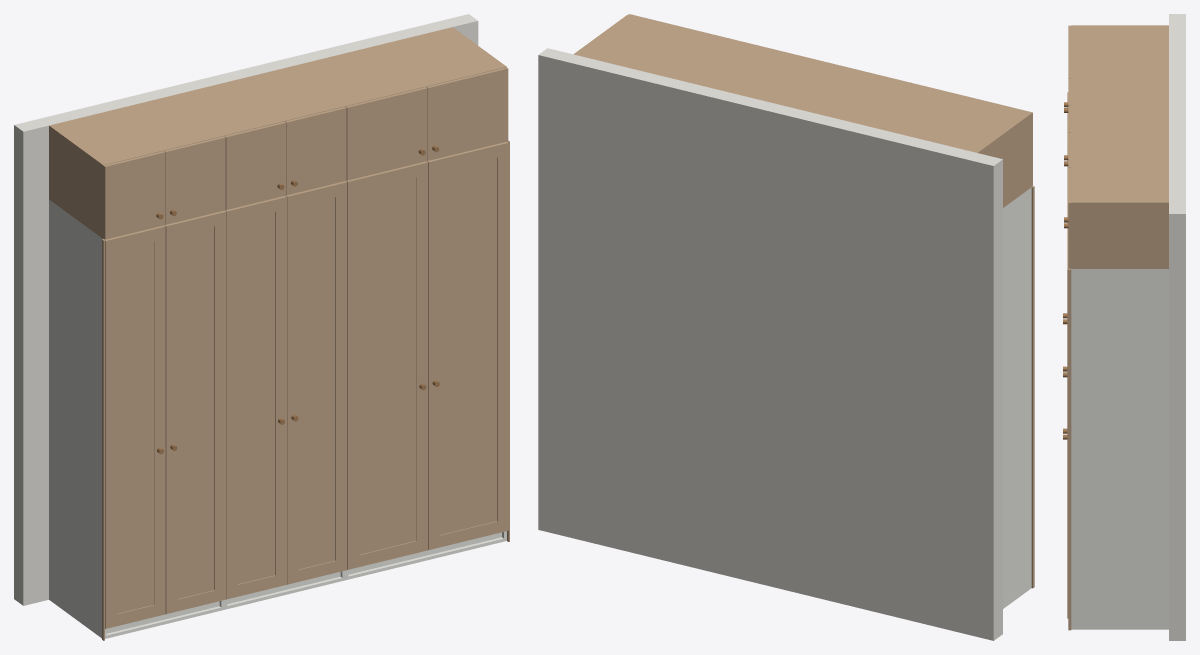
File: b-17khwf.glb
The picture shows the model from 3 angles, left to right: view 1: azimuth 30°, elevation 25°; view 2: azimuth 150°, elevation 25°; view 3: azimuth 270°, elevation 25°; orthographic projection. The views are drawn at different scales.
Parts seen in each view (by area): view 1: Room: Back wall, Unit 1: Side, left, Unit 3: Door, left, Unit 3: Door, right, Unit 1: Door, left, Unit 2: Door, right, Unit 1: Door, right, Unit 2: Door, left, Unit 3: Door, left frame, Unit 1: Door, right frame, Unit 3: Door, right frame, Unit 2: Door, right frame (+15 smaller); view 2: Room: Back wall, Unit 1: Side, left, Unit 3: Top box: Top, Unit 1: Top box: Top, Unit 2: Top box: Top, Unit 1: Top box: Side, left, Filler, left; view 3: Unit 3: Side, right, Room: Back wall, Unit 3: Top box: Top, Unit 3: Top box: Side, right, Unit 2: Top box: Top, Unit 1: Top box: Top, Filler, right, Unit 3: Door, right frame, Unit 3: Top box: Door, right.
Boxes of the visible parts, x1,y1,x2,y2 form: Room: Back wall: (14, 14, 478, 605); Unit 1: Side, left: (49, 199, 106, 638); Unit 3: Door, left: (346, 161, 426, 554); Unit 3: Door, right: (427, 141, 507, 534); Unit 1: Door, left: (104, 225, 164, 628); Unit 2: Door, right: (285, 181, 346, 569); Unit 1: Door, right: (164, 210, 225, 598); Unit 2: Door, left: (225, 196, 285, 584); Unit 3: Door, left frame: (347, 162, 427, 569); Unit 1: Door, right frame: (165, 211, 226, 614); Unit 3: Door, right frame: (428, 142, 508, 549); Unit 2: Door, right frame: (286, 182, 347, 584); Room: Back wall: (538, 48, 1002, 640); Unit 1: Side, left: (1003, 187, 1031, 608); Unit 3: Top box: Top: (576, 15, 785, 92); Unit 1: Top box: Top: (859, 84, 1028, 152); Unit 2: Top box: Top: (738, 55, 906, 122); Unit 1: Top box: Side, left: (975, 112, 1031, 207); Filler, left: (1031, 186, 1034, 588); Unit 3: Side, right: (1071, 269, 1168, 629); Room: Back wall: (1169, 14, 1185, 640); Unit 3: Top box: Top: (1071, 133, 1168, 201); Unit 3: Top box: Side, right: (1071, 201, 1168, 268); Unit 2: Top box: Top: (1071, 79, 1168, 130); Unit 1: Top box: Top: (1071, 26, 1168, 76); Filler, right: (1068, 269, 1071, 630); Unit 3: Door, right frame: (1067, 234, 1068, 618); Unit 3: Top box: Door, right: (1068, 167, 1071, 268).
Size of the model in its own units: 2.81 by 2.8 by 0.729.
